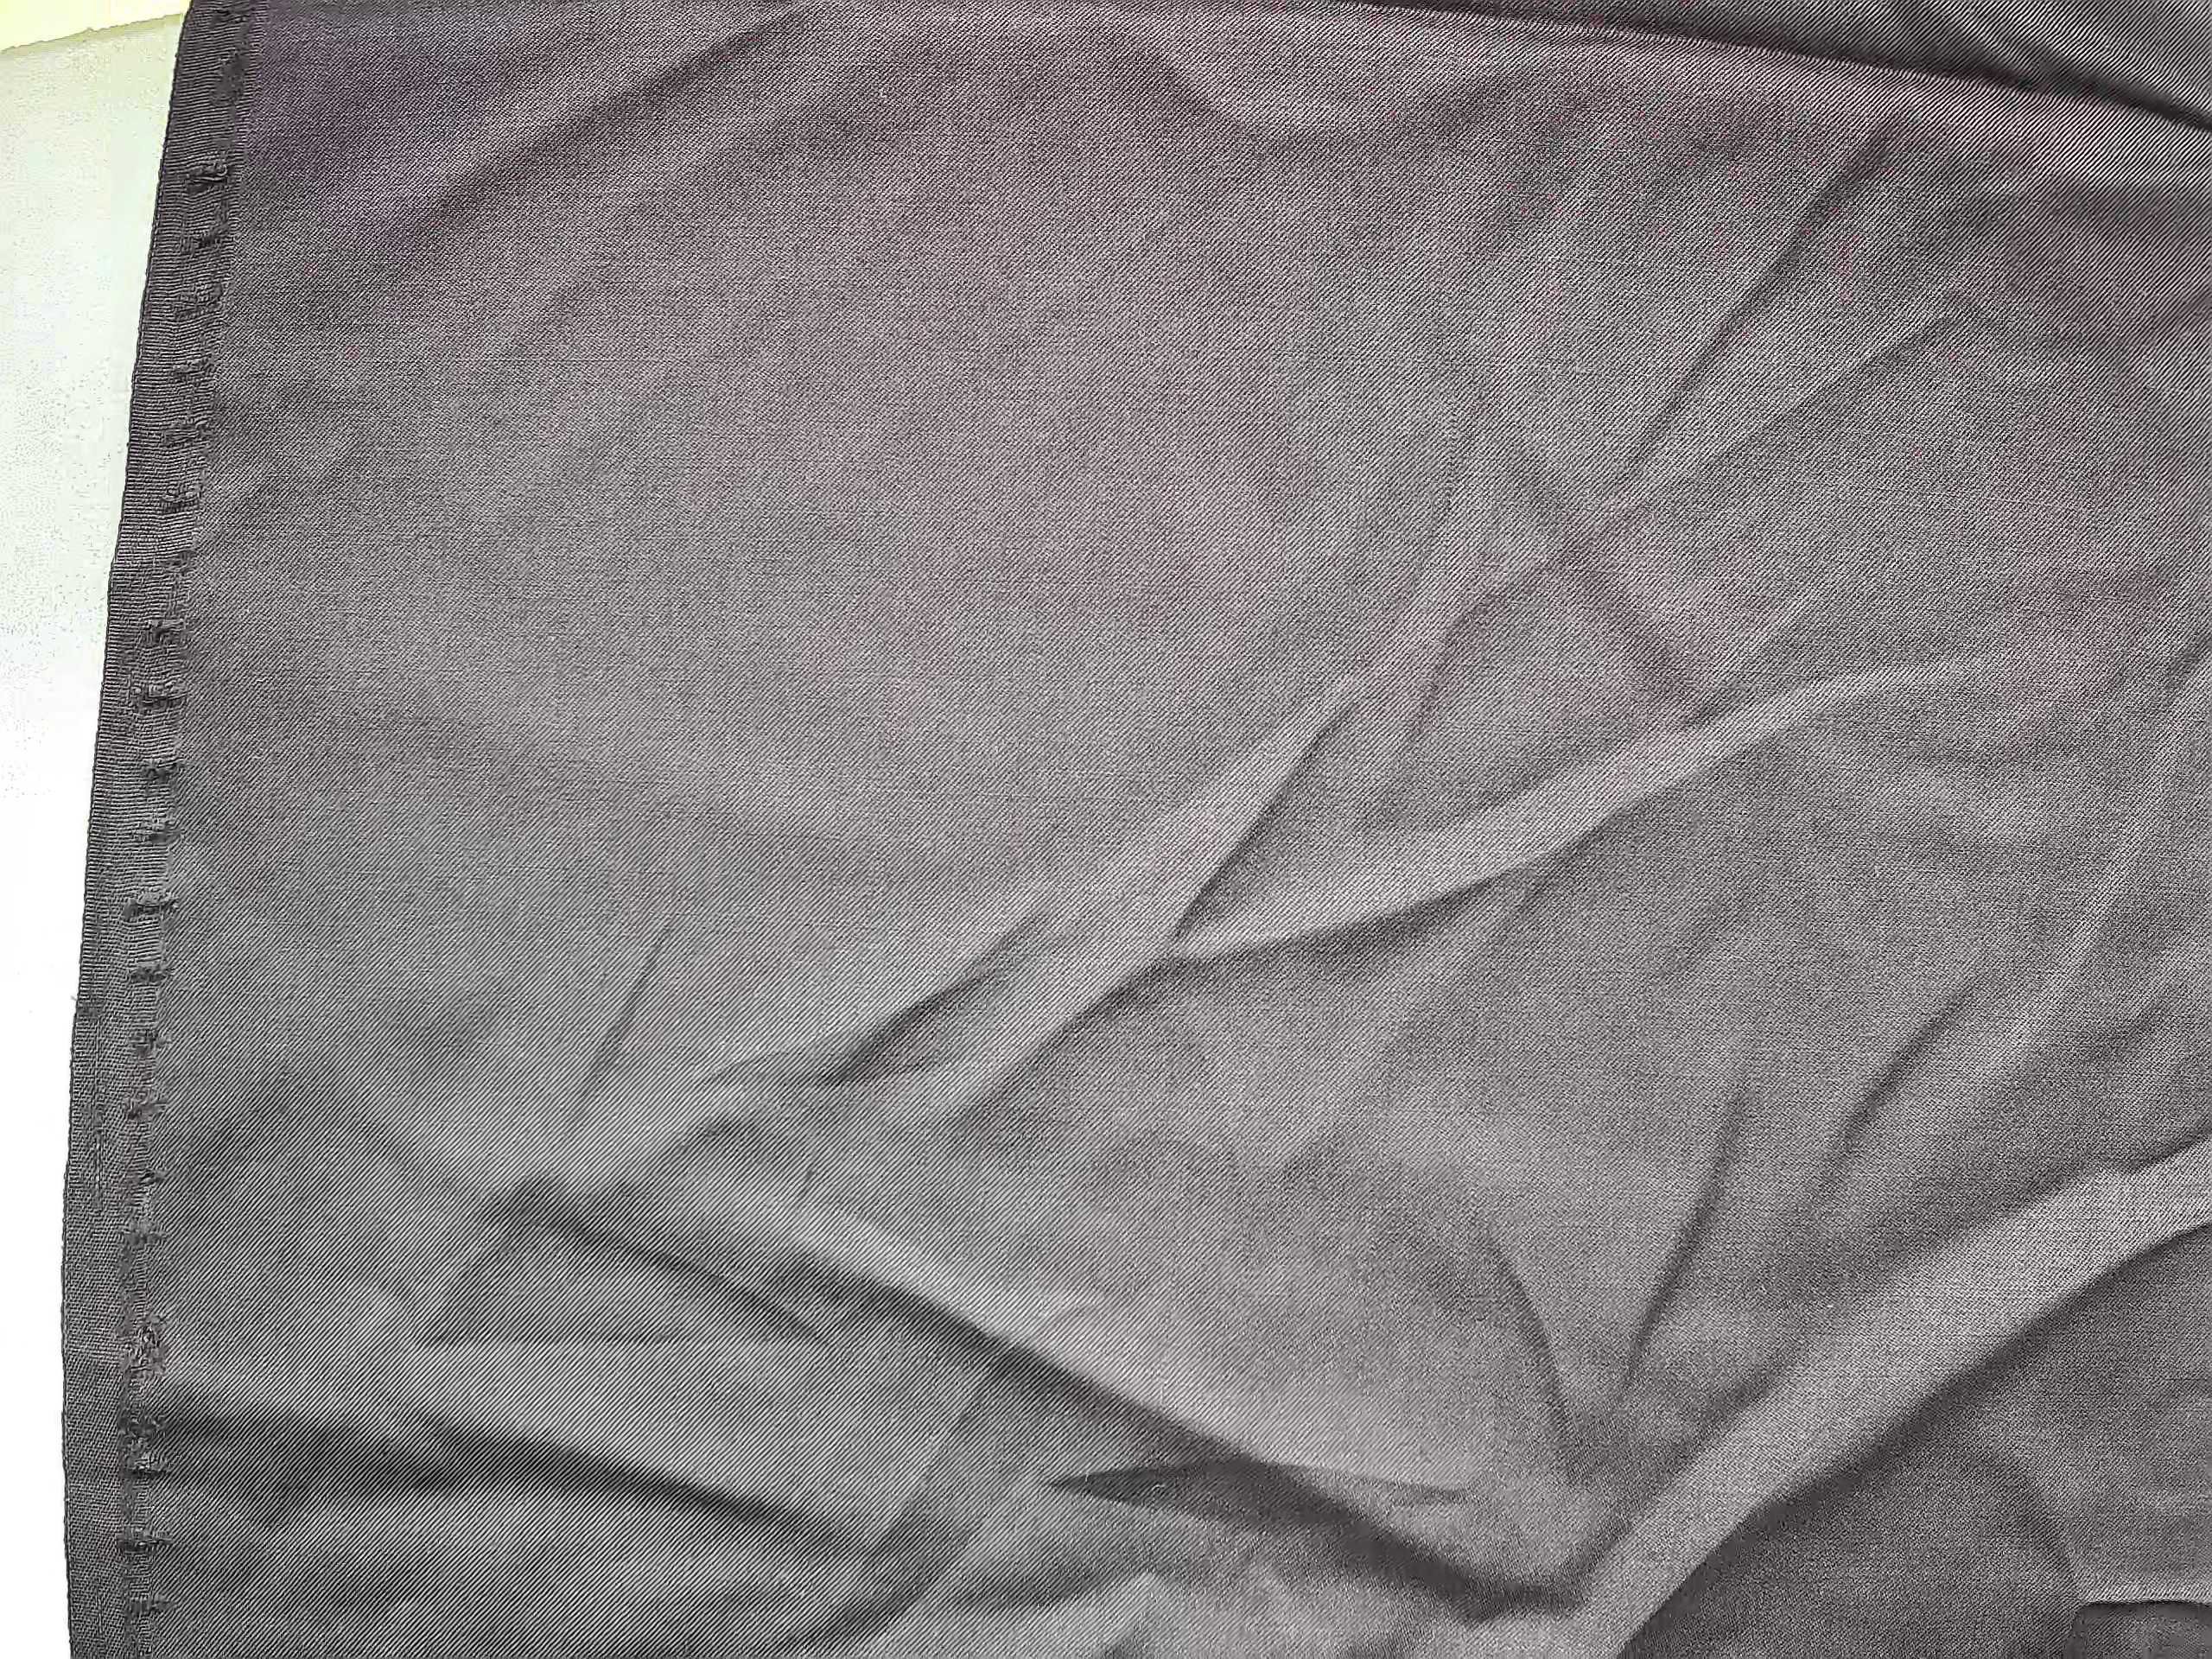puncture-hole: (113, 145, 249, 1615)
